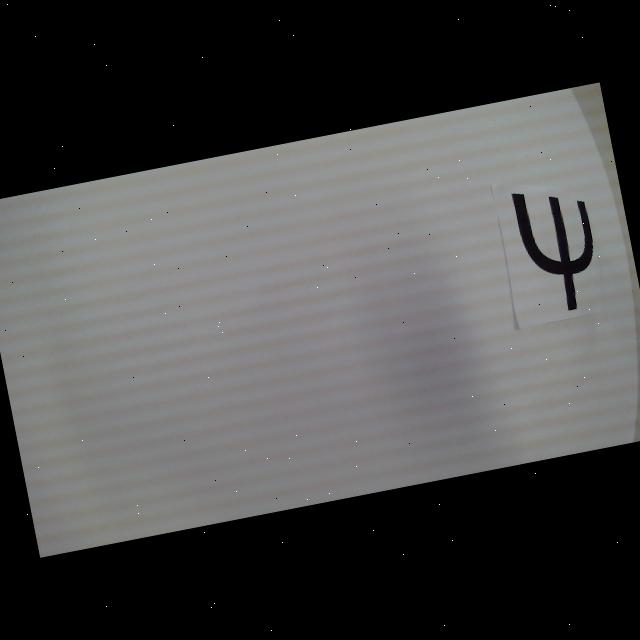PSI: (512, 179, 606, 319)
